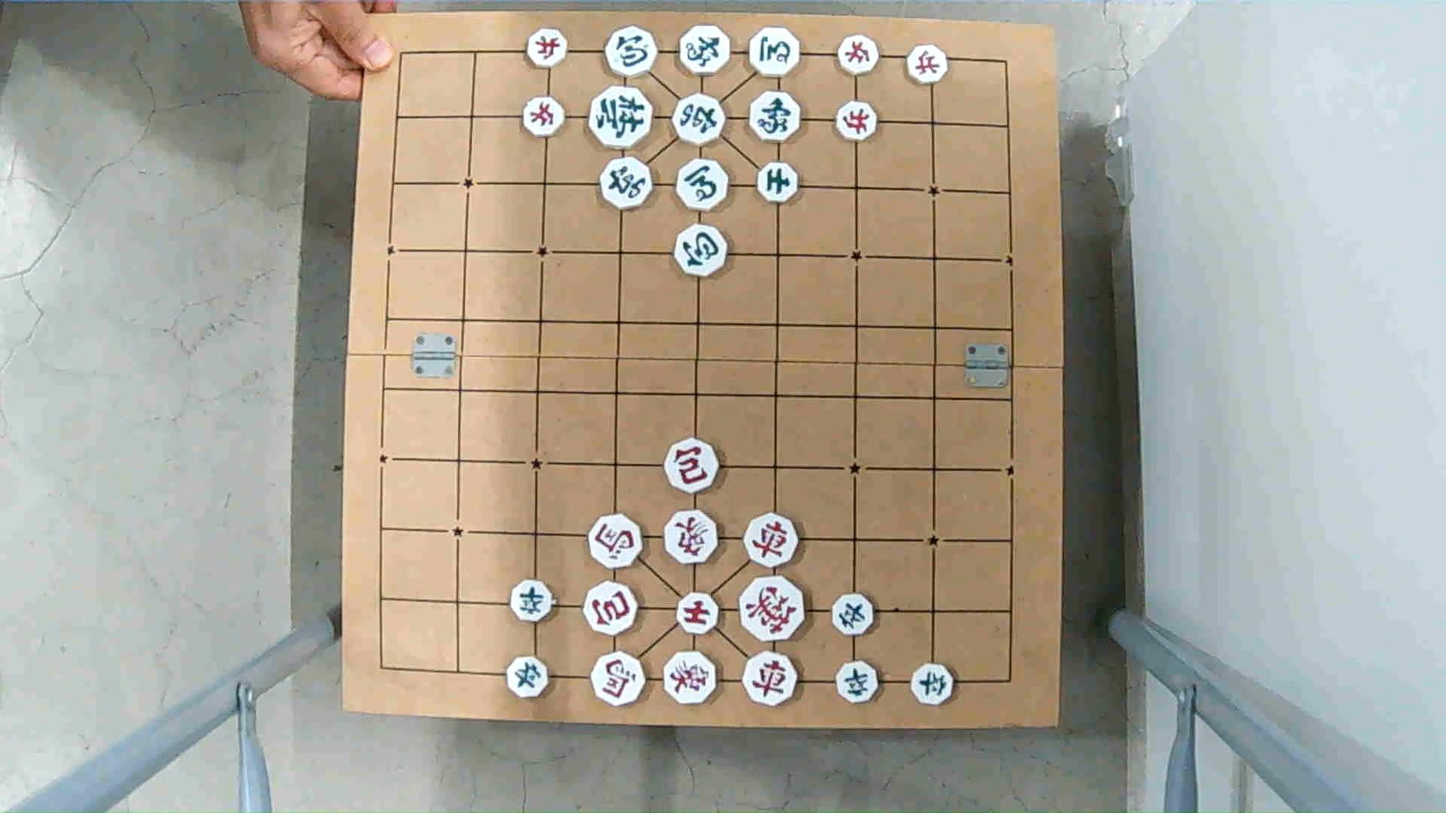cha_green: (672, 97, 728, 146), (601, 160, 654, 207)
cha_red: (742, 654, 801, 705), (744, 516, 801, 567)
jol_green: (504, 655, 550, 702), (833, 592, 874, 638), (909, 662, 953, 703), (834, 662, 880, 701), (508, 581, 554, 620)
jol_red: (522, 95, 566, 139), (904, 47, 953, 86), (833, 103, 882, 142), (526, 29, 572, 67), (834, 35, 878, 73)
ma_green: (677, 155, 730, 209), (749, 29, 804, 77)
ma_red: (593, 653, 649, 705), (592, 517, 648, 568)
po_green: (674, 227, 729, 276), (602, 27, 656, 75)
po_red: (664, 441, 720, 492), (587, 586, 642, 635)
sa_green: (758, 159, 799, 202)
sa_red: (675, 594, 720, 634)
sang_green: (679, 26, 734, 75), (749, 96, 805, 142)
sang_red: (662, 513, 719, 565), (664, 653, 721, 703)
wang_green: (587, 90, 650, 146)
wang_red: (739, 579, 809, 638)
